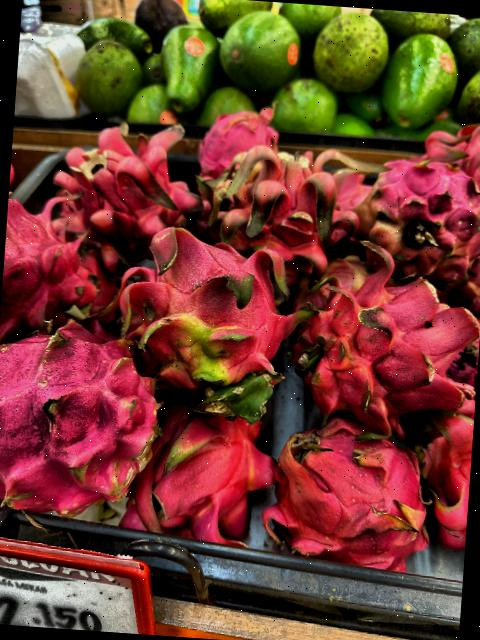buah-naga-belum-matang: (104, 224, 324, 414), (349, 143, 480, 287)
buah-naga-matang: (295, 230, 480, 432), (0, 327, 166, 519), (262, 408, 440, 576), (197, 138, 384, 286), (138, 391, 284, 556), (38, 116, 209, 248), (0, 158, 110, 339), (198, 105, 282, 182)
